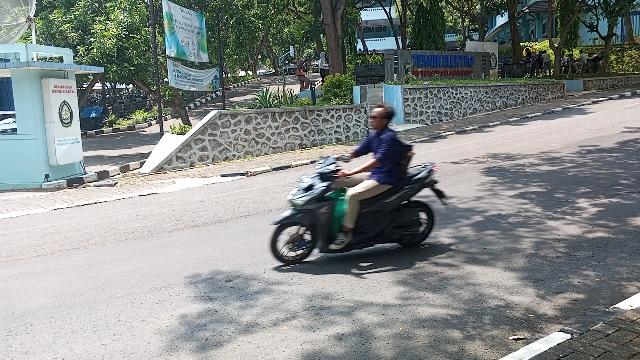motor: (272, 159, 450, 265)
non-helm: (371, 105, 396, 130)
